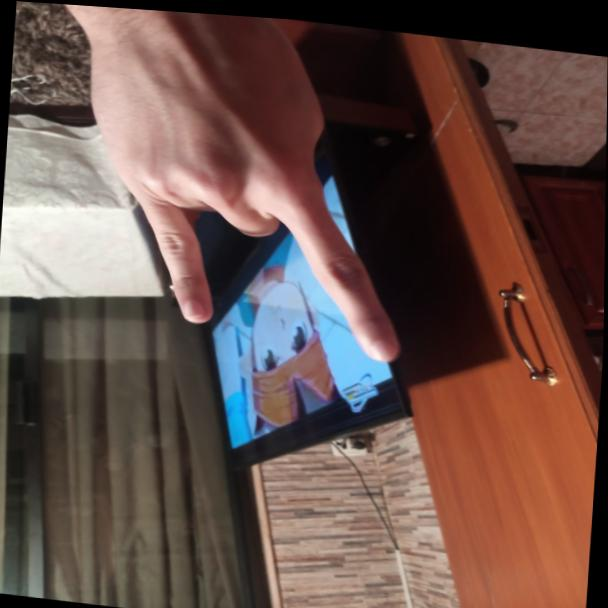five: (96, 40, 425, 363)
